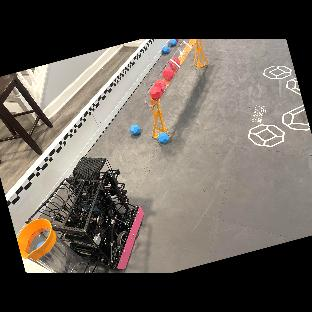V5_BLUE: (157, 134, 171, 144), (130, 125, 140, 136), (161, 46, 171, 55), (168, 40, 176, 45)
redingoal: (159, 65, 176, 81), (167, 56, 183, 71), (148, 85, 163, 100), (153, 78, 167, 93)
